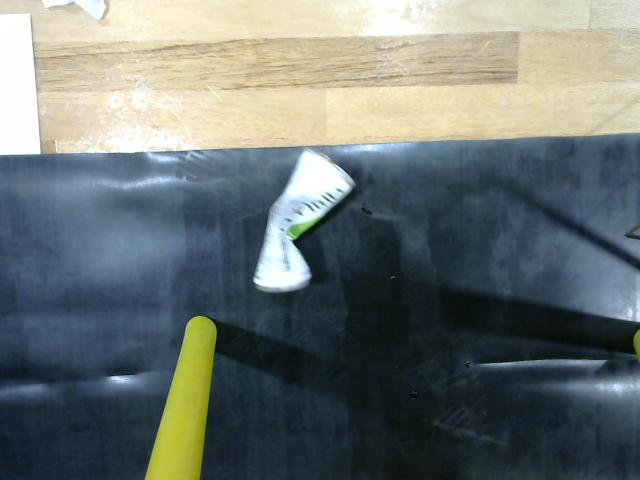can: (246, 140, 370, 299)
